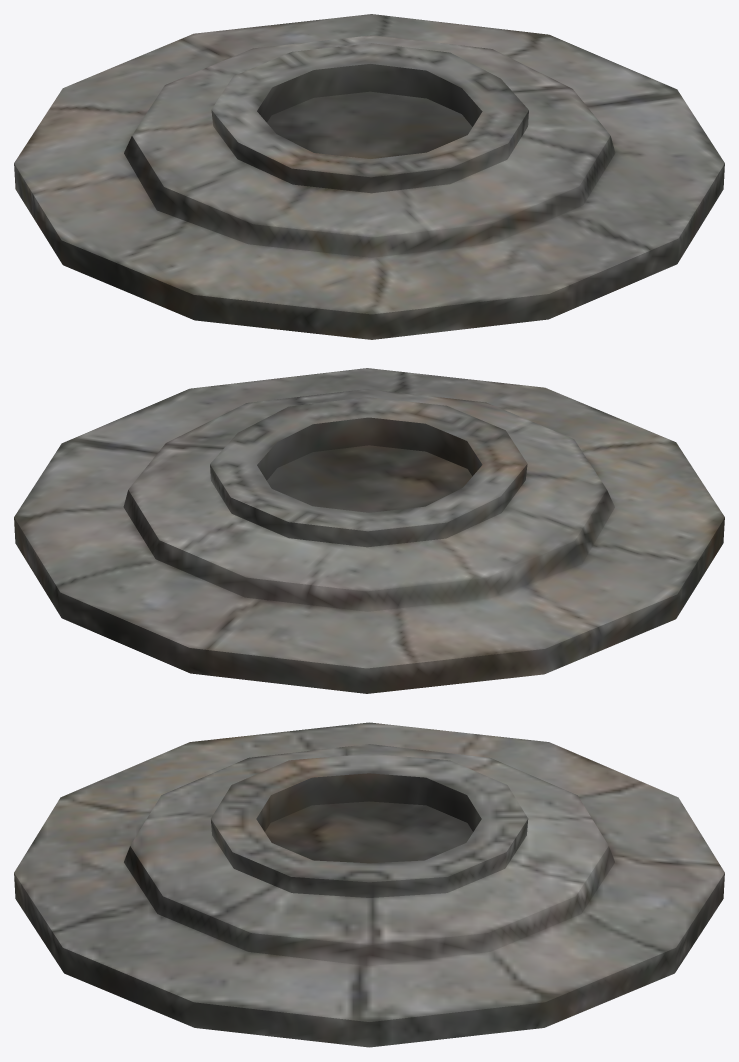
The model's file is Tower_E.fbx.
3 views of the same model, one above another, from view 1: azimuth 30°, elevation 25°; view 2: azimuth 150°, elevation 25°; view 3: azimuth 270°, elevation 25° (orthographic).
Visible parts, largest first — view 1: Tower_E; view 2: Tower_E; view 3: Tower_E.
Part boxes in pixels (x1,y1,x2,y2): Tower_E: (14, 14, 724, 339); Tower_E: (14, 368, 724, 693); Tower_E: (14, 722, 724, 1047).
Size of the model in its own units: 0.6411 by 0.0797 by 0.6413.
